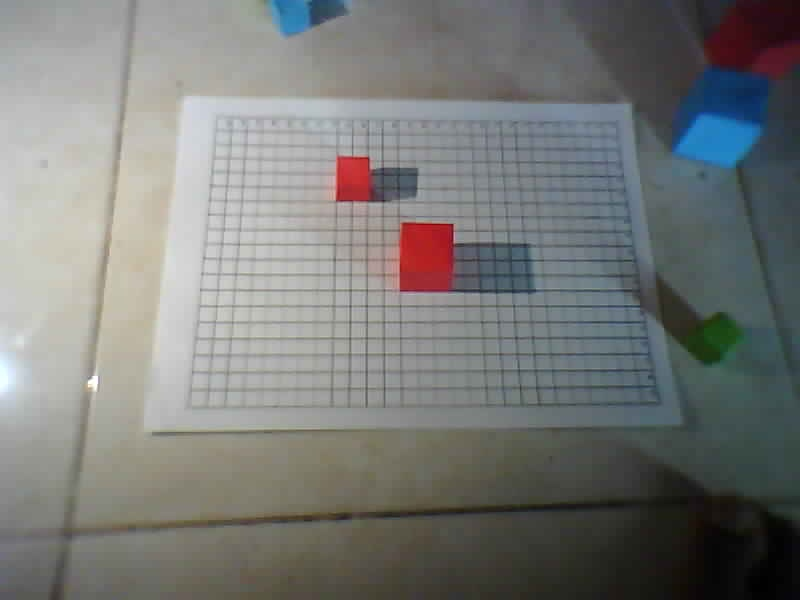LB: (184, 404, 192, 410)
LT: (213, 112, 221, 118)
RB: (655, 399, 663, 405)
RT: (612, 119, 620, 125)
